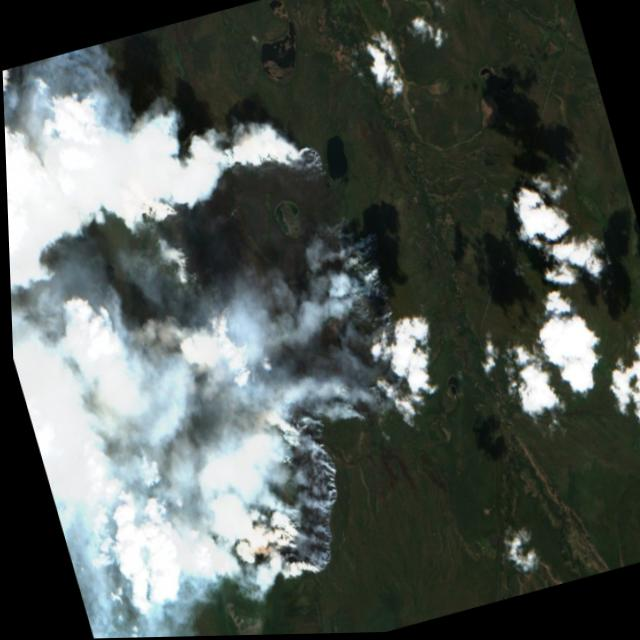fire: (98, 86, 467, 613), (60, 66, 226, 314)
